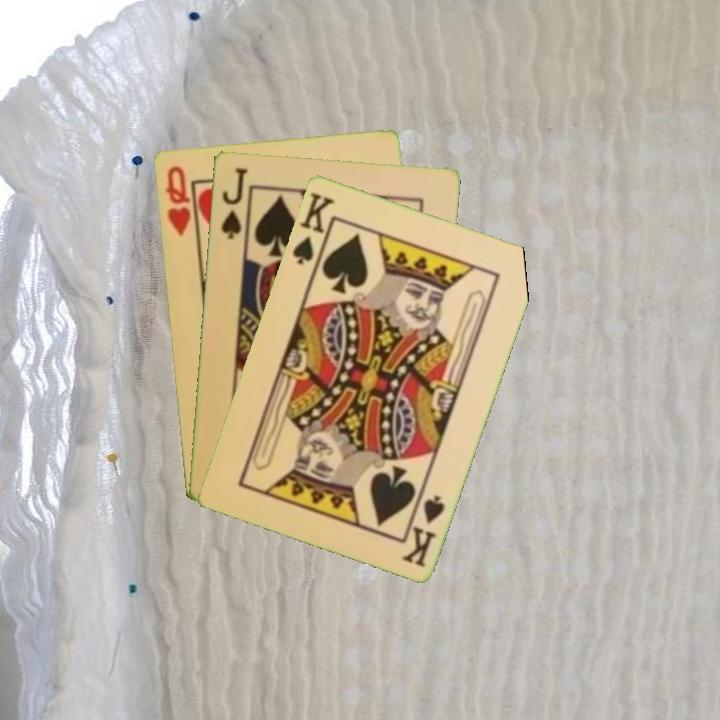Js: (217, 164, 250, 241)
Ks: (398, 491, 448, 570), (288, 188, 336, 267)
Qh: (161, 162, 193, 238)
